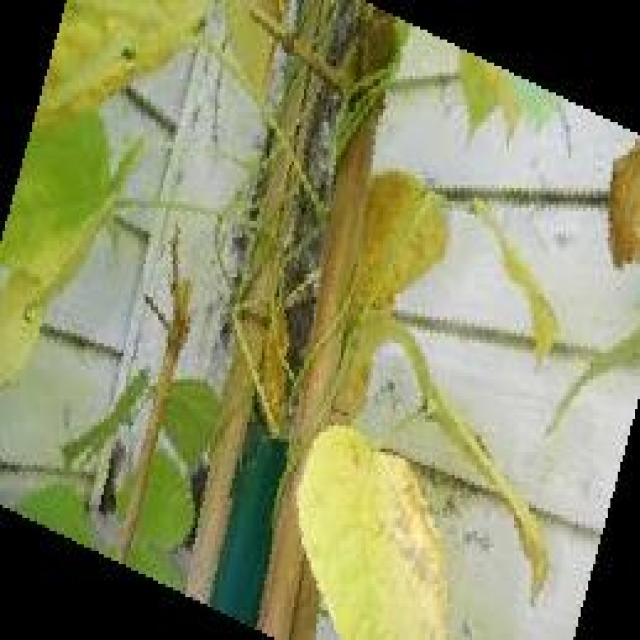Rust: (297, 419, 457, 640)
